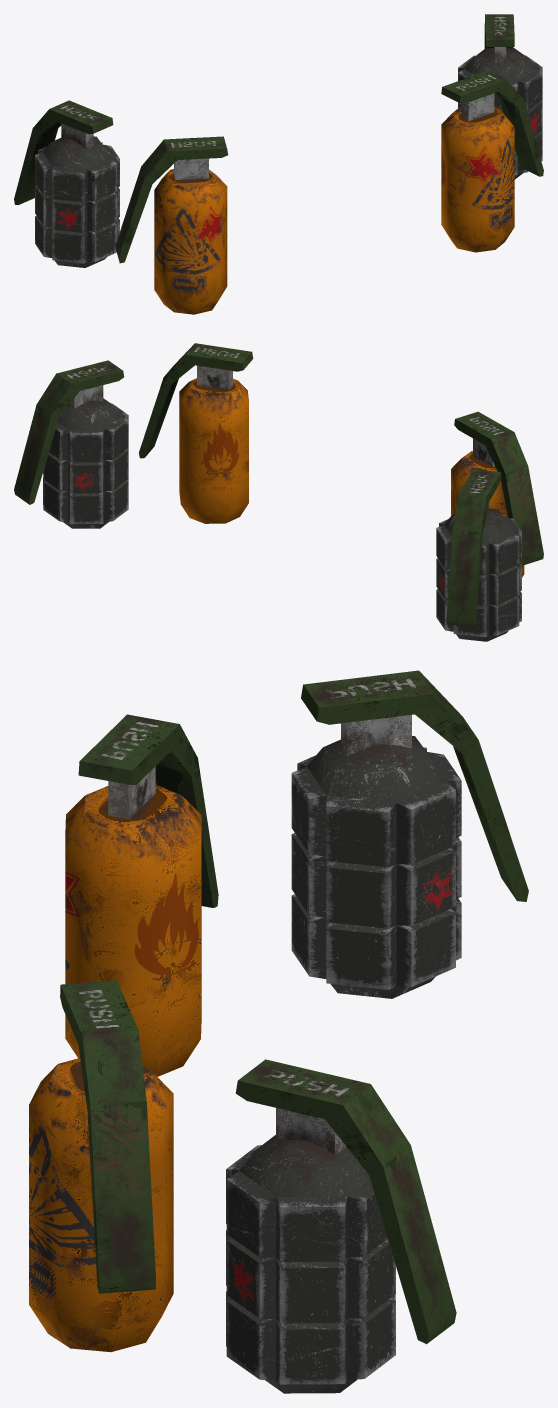
The model's file is HIP_CHIBI_GRANADE.fbx.
3 views of the same model, one above another, from view 1: azimuth 30°, elevation 25°; view 2: azimuth 150°, elevation 25°; view 3: azimuth 270°, elevation 25° (orthographic). The views are drawn at different scales.
Visible parts, largest first — view 1: HIP_CHIBI_GRENADES; view 2: HIP_CHIBI_GRENADES; view 3: HIP_CHIBI_GRENADES.
Boxes of the visible parts, box(x1,y1,x2,y2) form: HIP_CHIBI_GRENADES: box(14, 14, 543, 314); HIP_CHIBI_GRENADES: box(14, 343, 543, 641); HIP_CHIBI_GRENADES: box(29, 670, 528, 1393).
Size of the model in its own units: 0.0359 by 0.0113 by 0.016.
